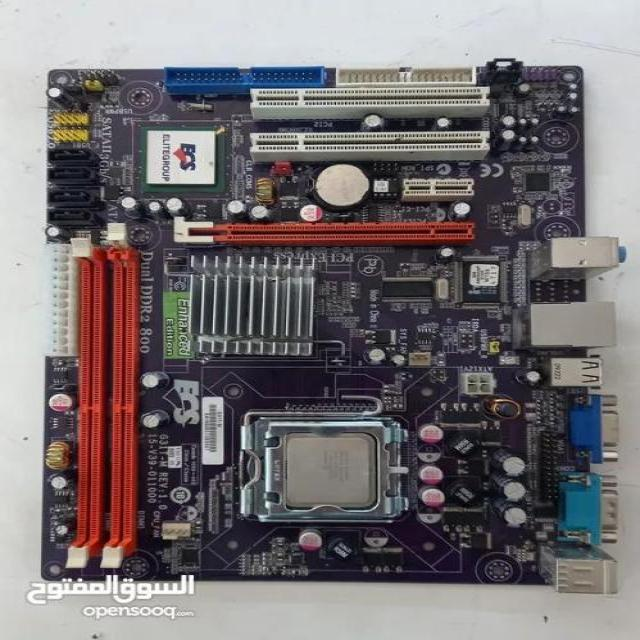CPU: (286, 433, 376, 508)
